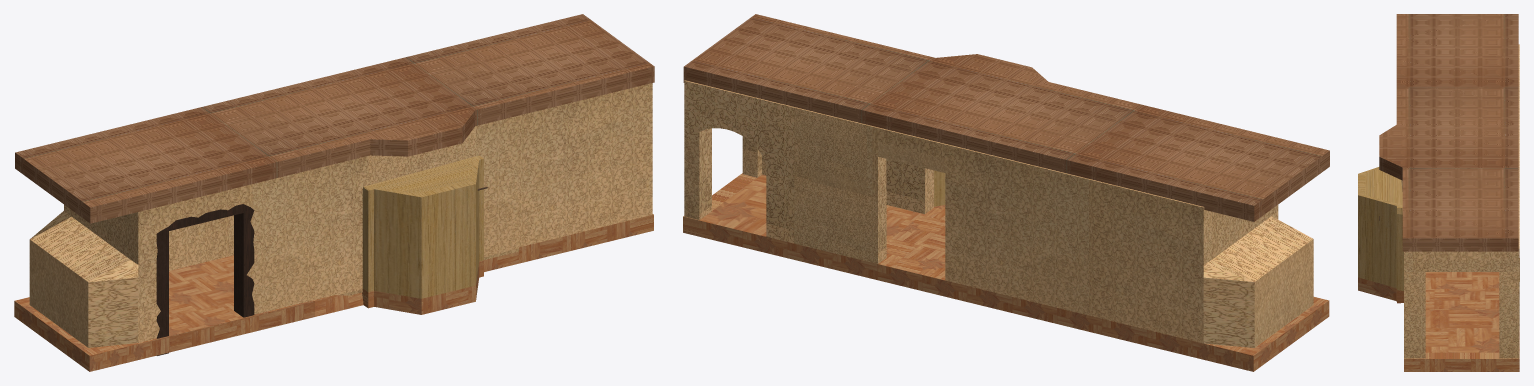
Rendered from coridorBLYAT.fbx.
3 renders of one model, left to right at view 1: azimuth 30°, elevation 25°; view 2: azimuth 150°, elevation 25°; view 3: azimuth 270°, elevation 25°, orthographic. The views are drawn at different scales.
Visible parts, largest first — view 1: Cylinder, Cylinder.001; view 2: Cylinder; view 3: Cylinder.
Part boxes in pixels (x1=…): Cylinder: x1=14, y1=14, x2=654, y2=371; Cylinder.001: x1=156, y1=204, x2=254, y2=355; Cylinder: x1=683, y1=14, x2=1329, y2=371; Cylinder: x1=1358, y1=14, x2=1519, y2=371.
Size of the model in its own units: 1808 by 505 by 551.
